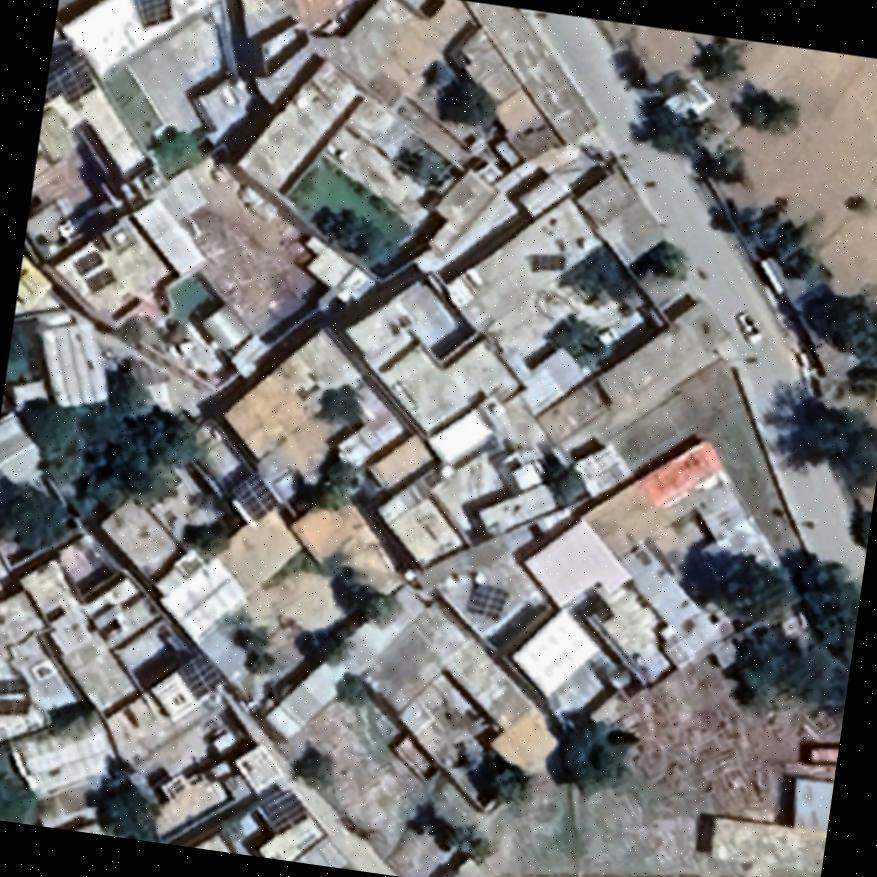Solarpanel: (44, 41, 102, 108), (253, 780, 313, 838), (228, 467, 283, 523), (173, 648, 227, 702), (464, 578, 508, 620), (128, 0, 176, 28), (0, 689, 33, 721), (525, 248, 565, 274)
